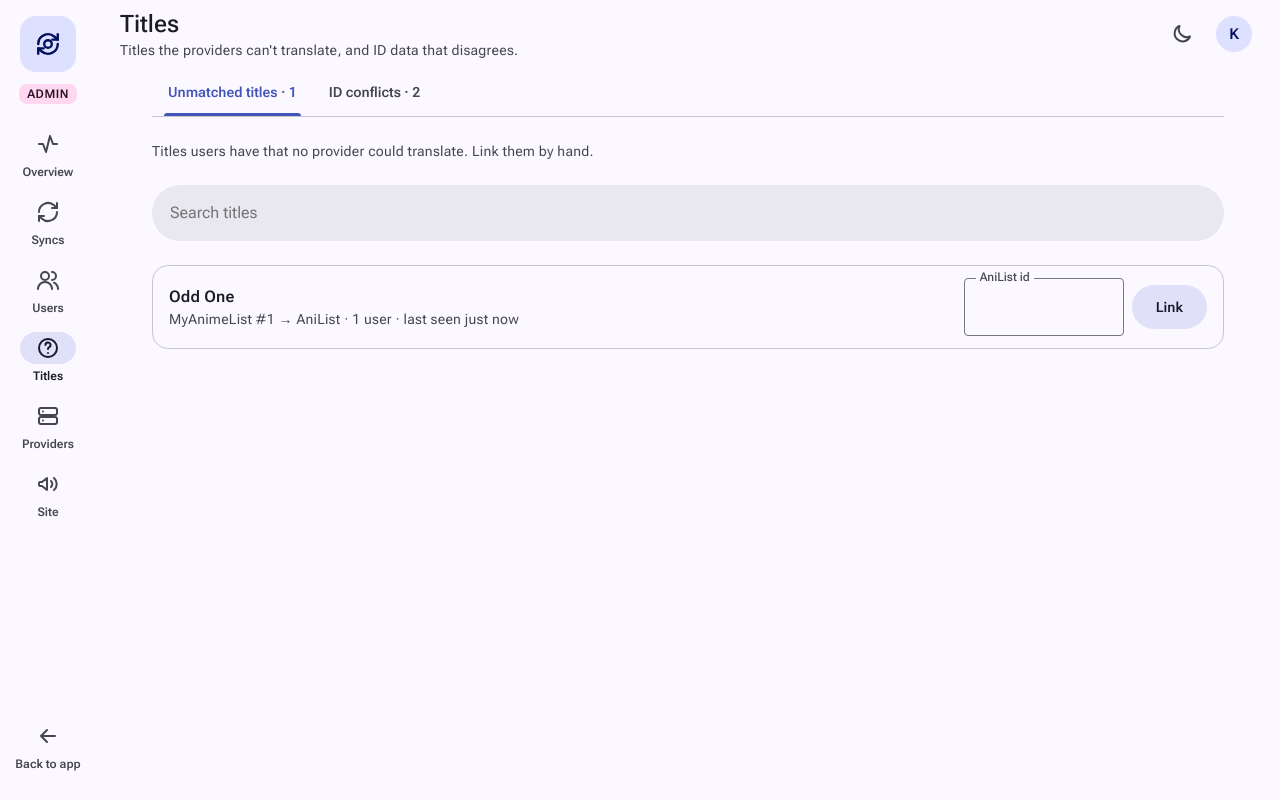
Test: ID conflicts › puts the two lists in tabs at the top, with how many each holds, and opens on the unmatched titles
Expected: the text "Odd One" is shown, [169,287,234,306]
Click the tab "ID conflicts · 2".
click(374, 92)  # box [313,68,436,116]
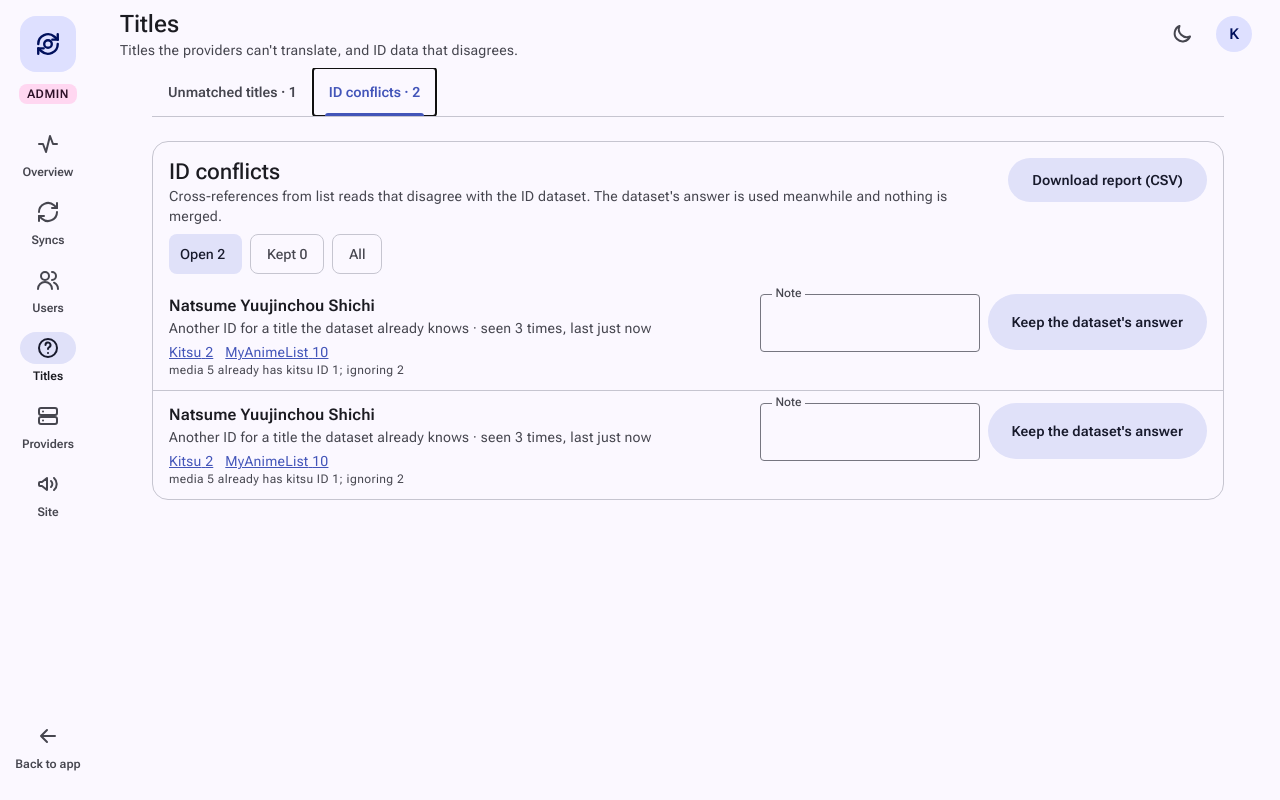
Expected: the heading "ID conflicts" is shown, [169,159,280,184]
Expected: the text "Odd One" is gone
